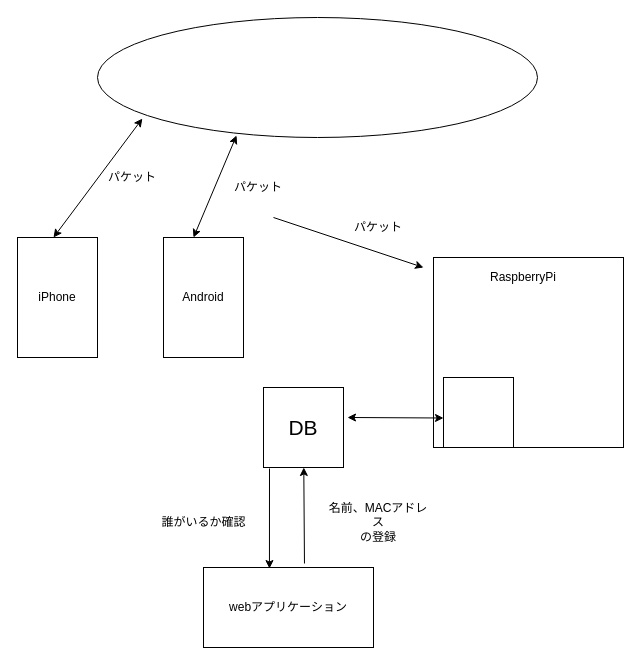
The diagram is 641 pixels wide and 665 high, and some of its shapes have lost their labels. Each missing label, with the box of its shape:
AccessPoint: (96, 16, 538, 138)
解析モジュール: (442, 376, 514, 448)
